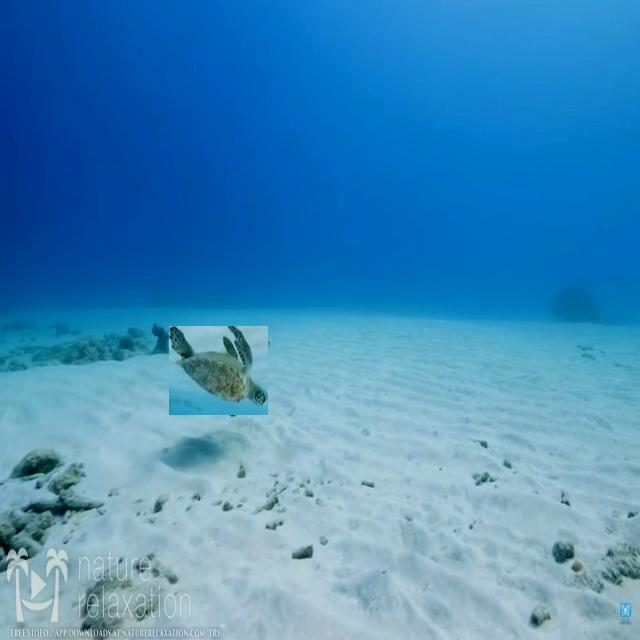Sea turtle: (170, 326, 270, 415)
